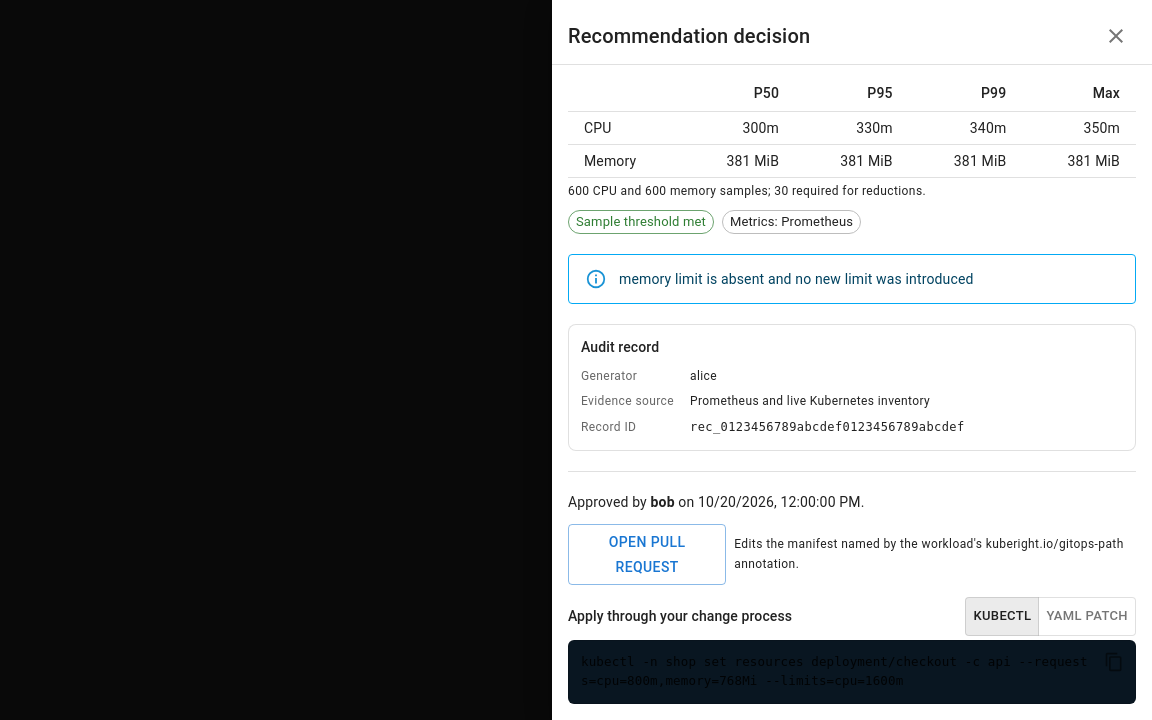
RecommendationDrawer › opens a pull request for an approved recommendation
(page scrolled)
Click the button "Open pull request": click(647, 555) [568,524,726,585]
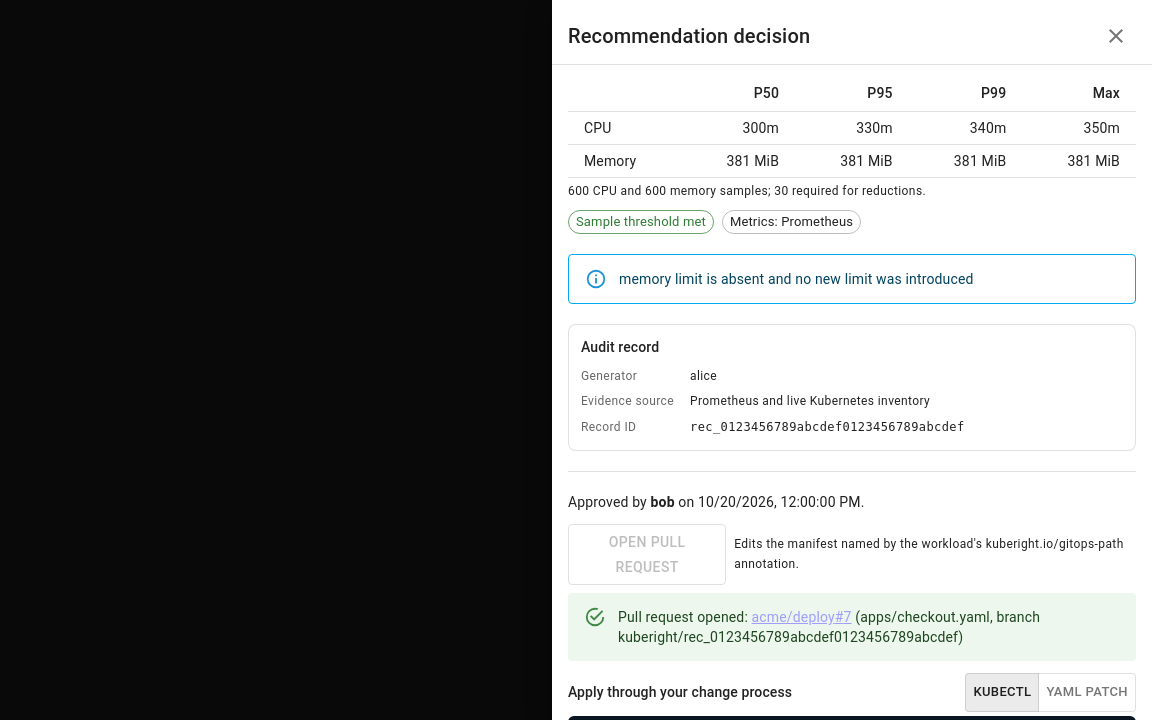
Expected: the button "Open pull request" is disabled, [568,524,726,585]
